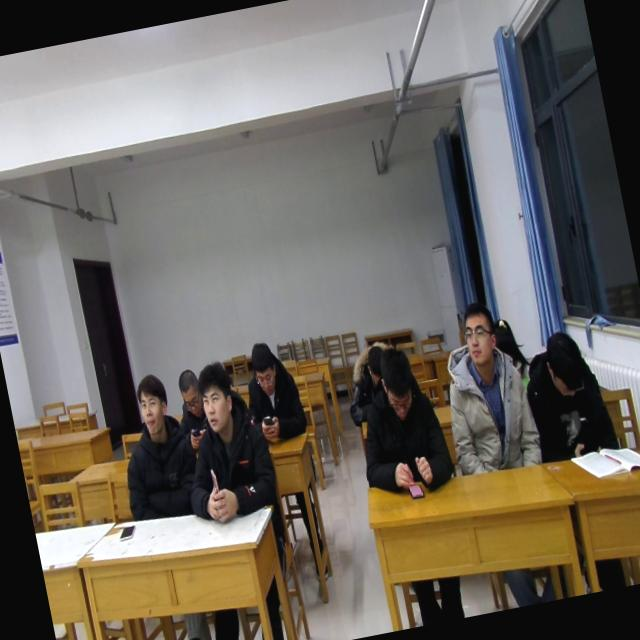bow: (234, 334, 312, 450), (332, 332, 410, 428), (488, 308, 540, 399), (168, 364, 218, 455)
down: (533, 322, 596, 406), (372, 340, 423, 426), (242, 336, 283, 402), (171, 360, 204, 423), (357, 339, 387, 390)
lookup: (190, 355, 242, 446), (452, 294, 507, 374), (128, 368, 176, 442)
sit: (426, 293, 548, 486), (162, 354, 286, 526), (342, 339, 459, 502), (104, 368, 207, 528), (516, 325, 620, 468)
